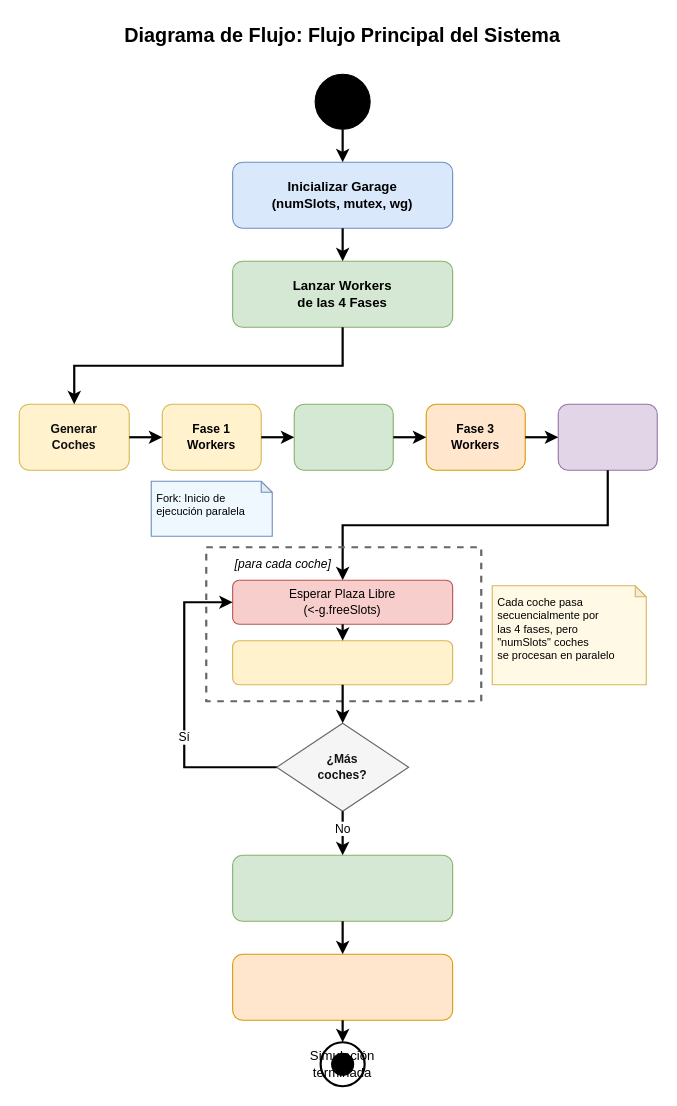
The diagram is 677 pixels wide and 1106 high, and some of its shapes have lost their labels. Here are the shapes that lost their labels. From the top down, the centre of each, then its label:
At point (343, 436): "Fase 2 Workers".
At point (607, 436): "Fase 4 Workers".
At point (342, 662): "Procesar Coche (4 Fases Secuenciales)".
At point (342, 887): "WaitGroup.Wait() (Esperar Finalización)".
At point (342, 986): "Cerrar Canales y Recursos".
